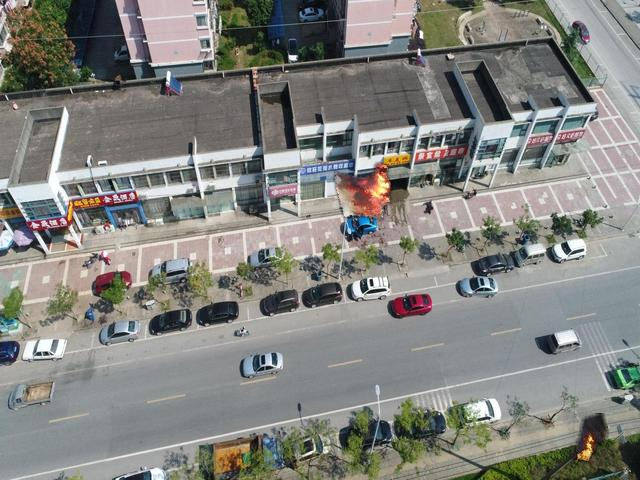fire: (332, 162, 393, 221), (569, 413, 608, 463)
